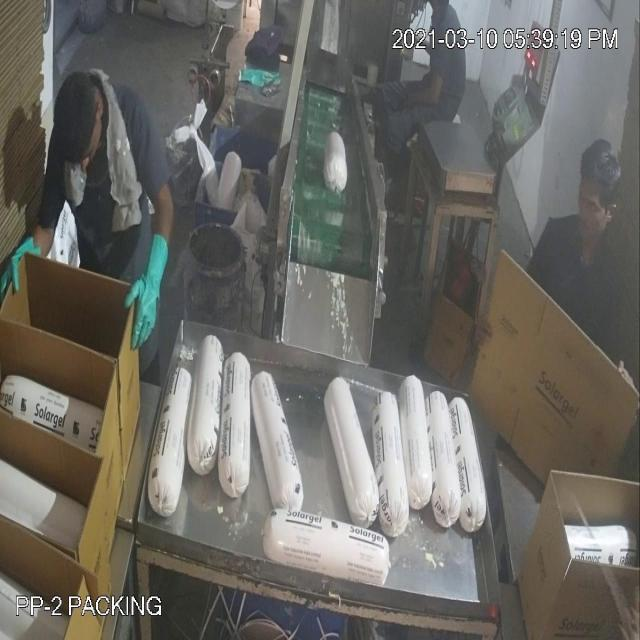Gloves: (117, 215, 181, 370)
